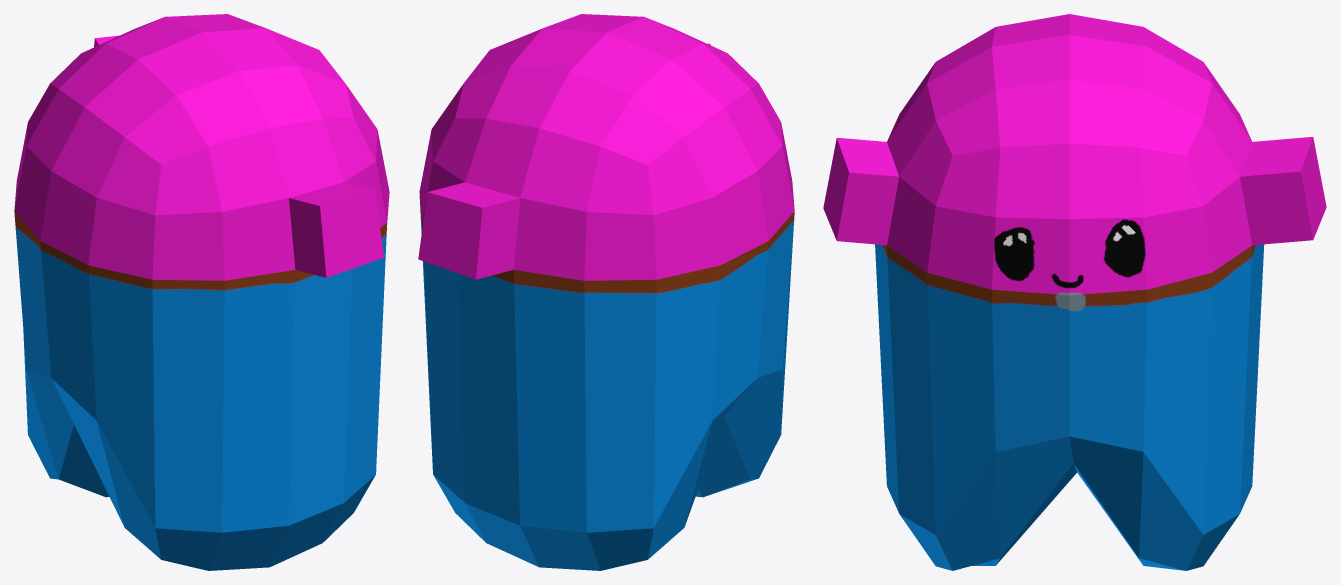
File: player.glb
The picture shows the model from 3 angles, left to right: view 1: azimuth 30°, elevation 25°; view 2: azimuth 150°, elevation 25°; view 3: azimuth 270°, elevation 25°; orthographic projection. The views are drawn at different scales.
Parts seen in each view (by area): view 1: Cube; view 2: Cube; view 3: Cube.
Boxes of the visible parts, <box> form: Cube: <box>14,14,389,570</box>; Cube: <box>418,14,794,570</box>; Cube: <box>823,14,1326,570</box>.
Bounding box in the file's own units: 0.8395 × 1.21 × 1.08.
1 material, 1 textured.
